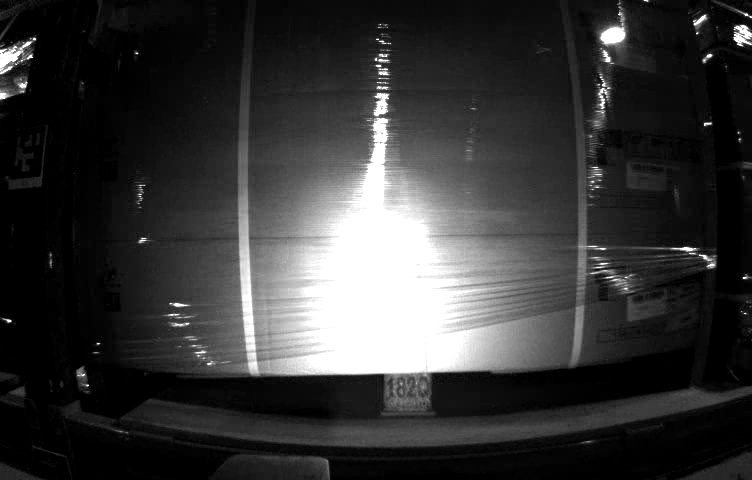True Barcode: (666, 282, 699, 331)
